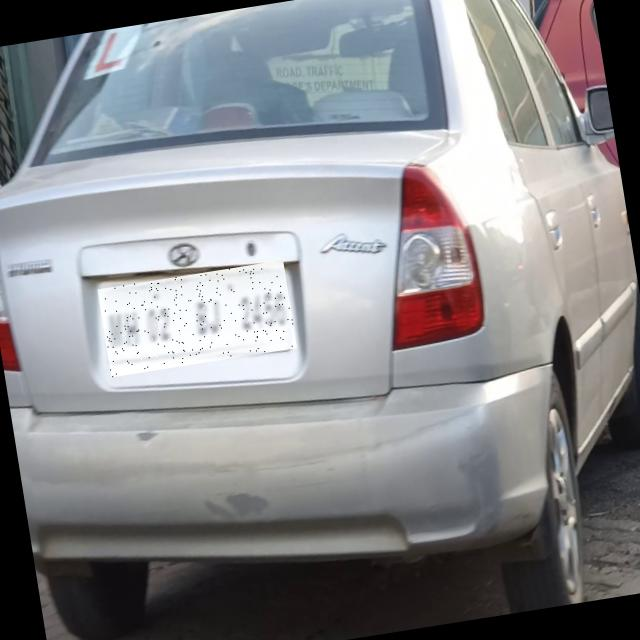Plate: (99, 261, 299, 378)
